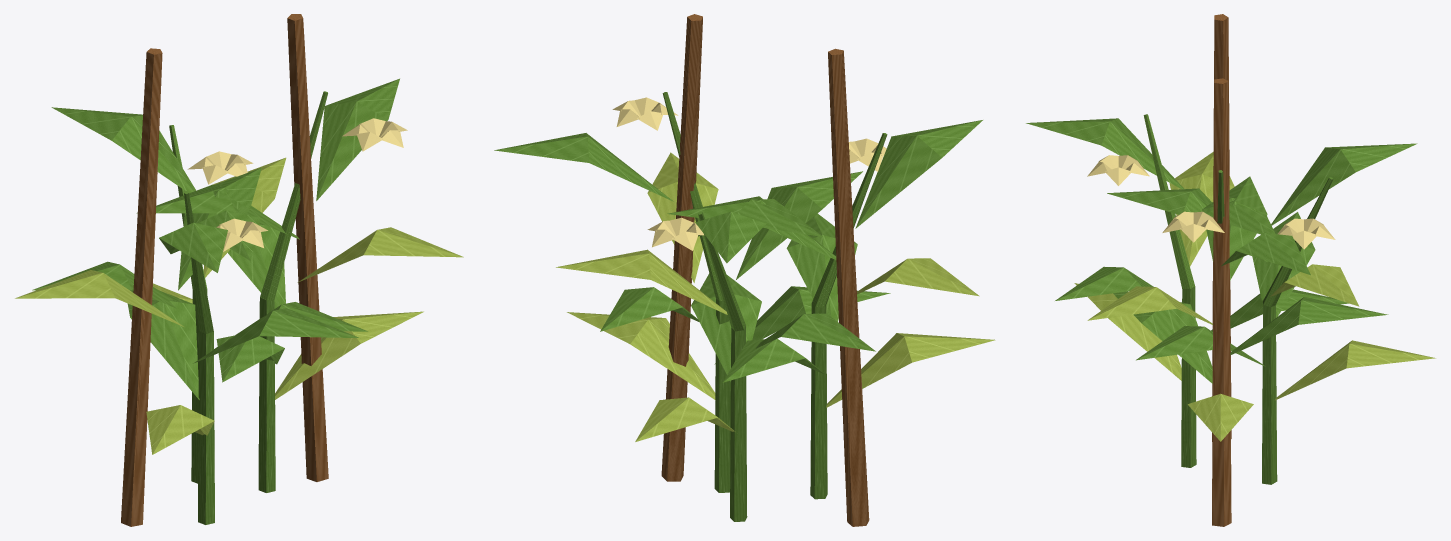
The model's file is crop-bean-flowering.glb.
3 renders of one model, left to right at view 1: azimuth 30°, elevation 25°; view 2: azimuth 150°, elevation 25°; view 3: azimuth 270°, elevation 25°, orthographic. The views are drawn at different scales.
Visible parts, largest first — view 1: crop-bean-flowering; view 2: crop-bean-flowering; view 3: crop-bean-flowering.
Boxes of the visible parts, left/top/right/bottom form: crop-bean-flowering: left=15, top=14, right=463, bottom=526; crop-bean-flowering: left=494, top=14, right=995, bottom=526; crop-bean-flowering: left=1026, top=14, right=1435, bottom=526.
Bounding box in the file's own units: 0.775 × 0.7915 × 0.6823.
1 material, 1 textured.
